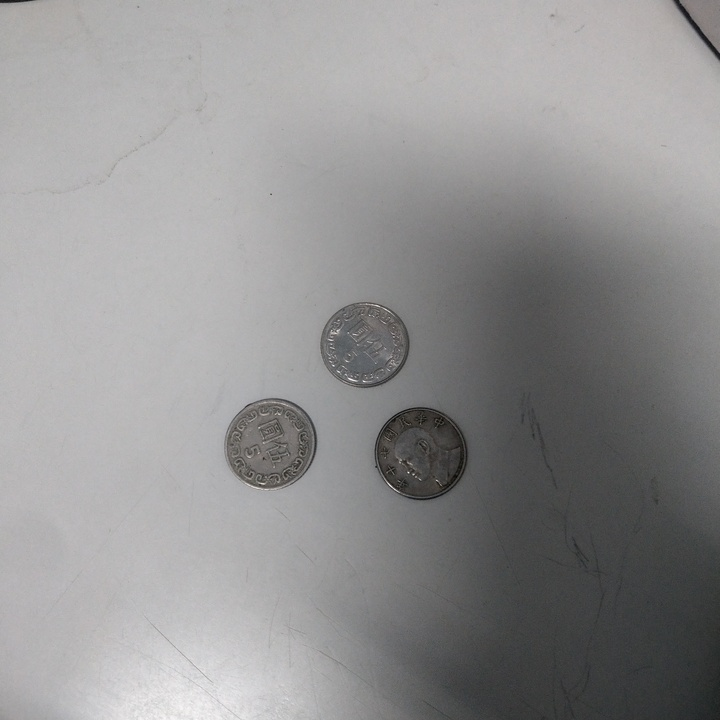5 dollar: (373, 405, 471, 503), (223, 400, 318, 491), (316, 300, 411, 387)
